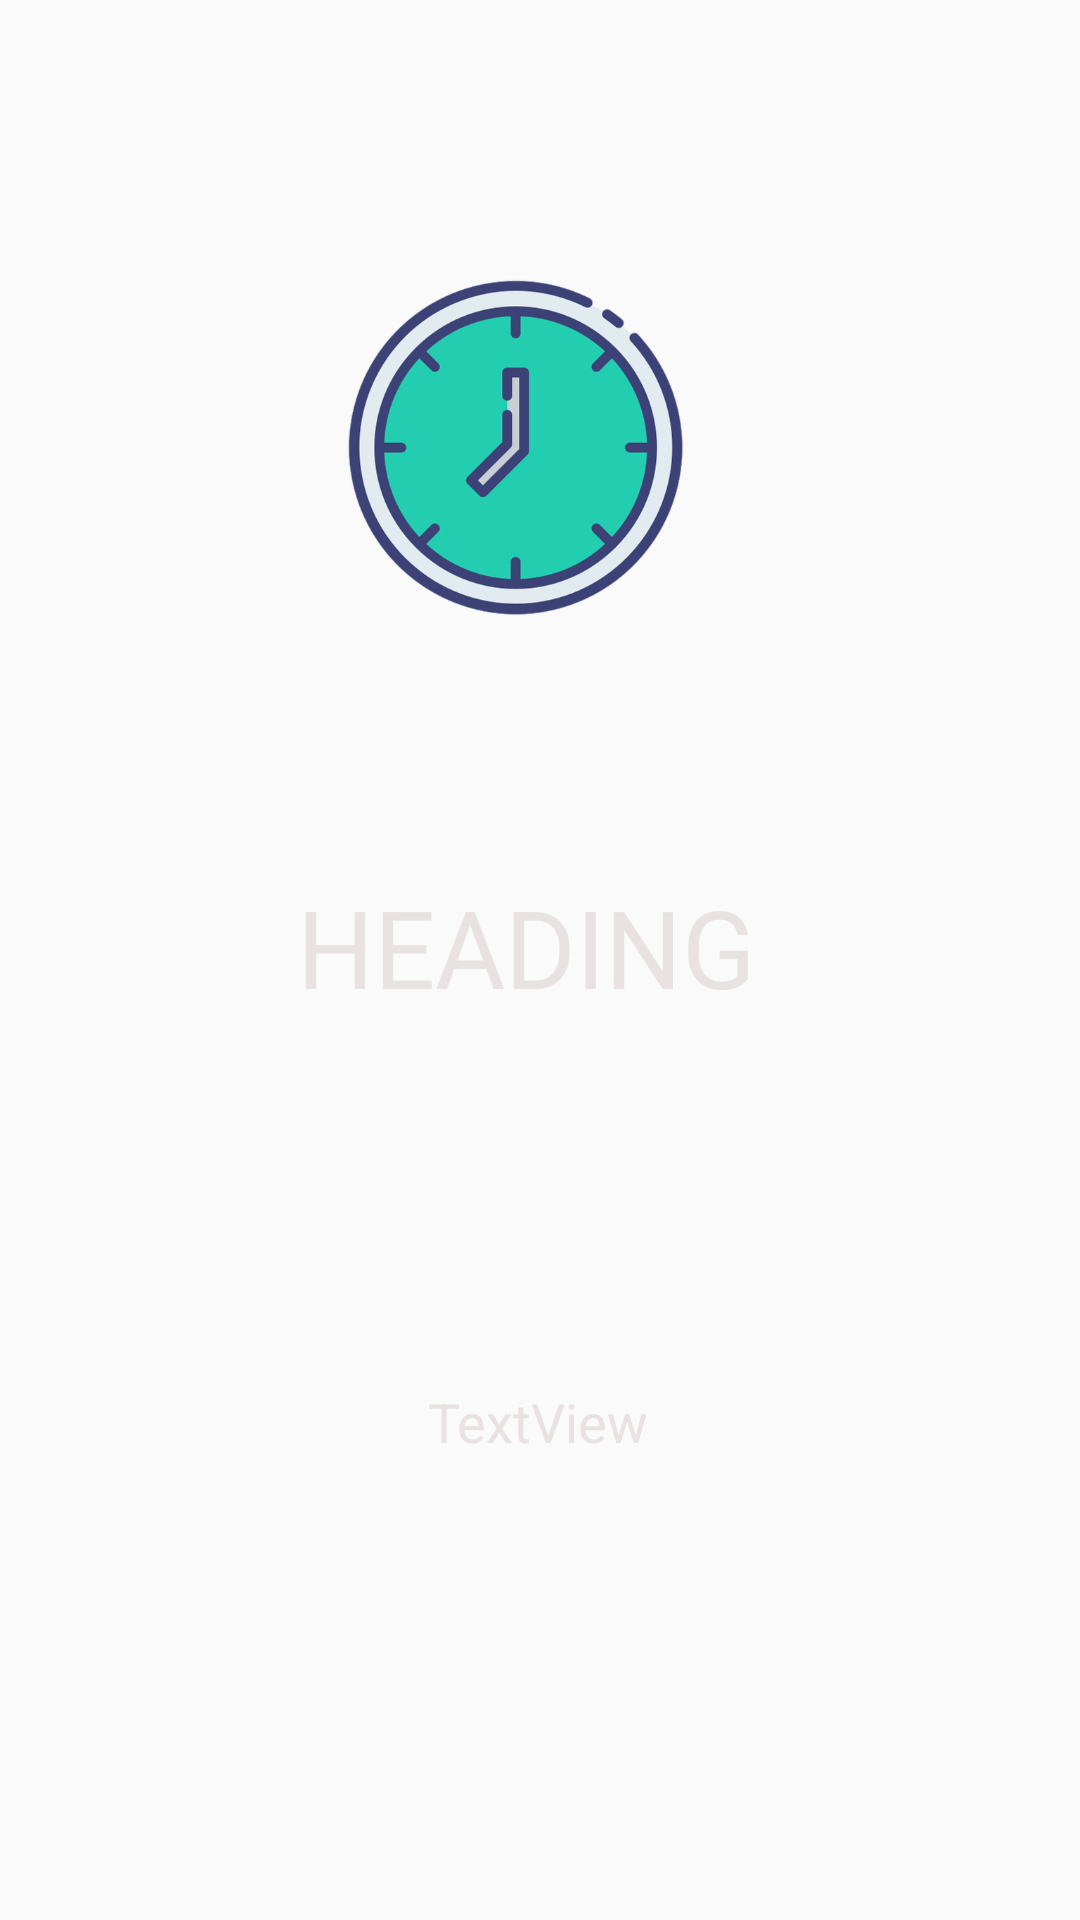

Icons on this 1080*1920 Android screen, each with the point to tap as (x=x, y=y):
clock: (x=515, y=447)
